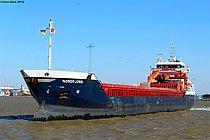Ship: (18, 39, 199, 121)
